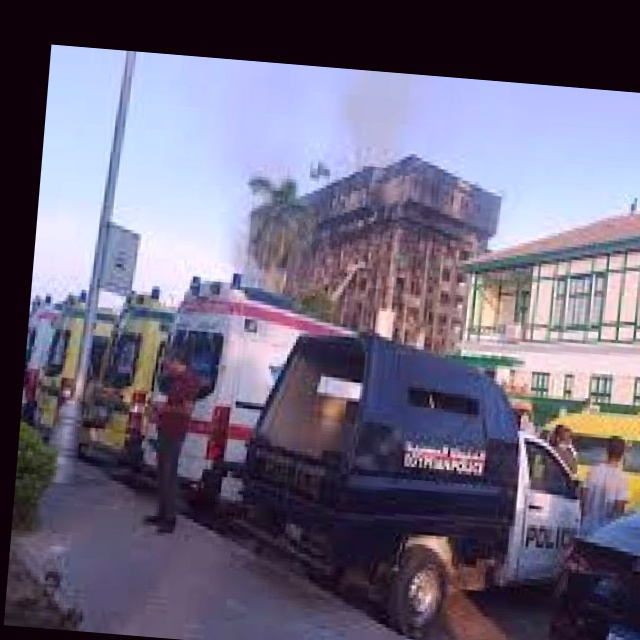Ambulance: (131, 255, 338, 505), (77, 276, 193, 459), (39, 283, 94, 441)
person: (140, 347, 207, 535), (579, 430, 633, 539), (544, 421, 581, 480)
police-car: (249, 328, 621, 637)
